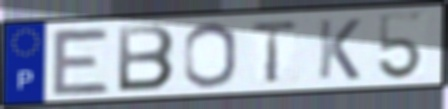5: (375, 9, 431, 83)
B: (115, 23, 178, 94)
E: (50, 27, 114, 98)
K: (315, 17, 363, 82)
O: (181, 20, 240, 90)
T: (247, 18, 302, 86)
